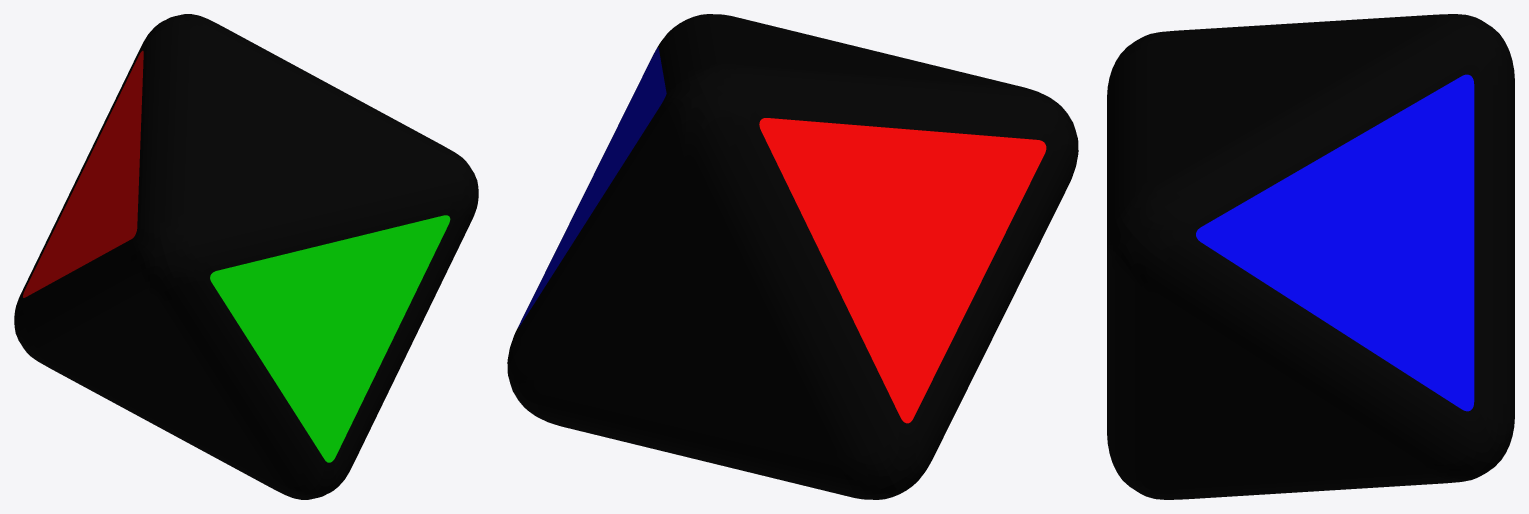
File: o_bgry.fbx
3 views of the same model, side by side, from view 1: azimuth 30°, elevation 25°; view 2: azimuth 150°, elevation 25°; view 3: azimuth 270°, elevation 25° (orthographic). The views are drawn at different scales.
Visible parts, largest first — view 1: o_bgry; view 2: o_bgry; view 3: o_bgry.
Part boxes in pixels (<box>): o_bgry: <box>14,14,478,499</box>; o_bgry: <box>507,14,1078,499</box>; o_bgry: <box>1107,14,1514,499</box>.
Bounding box in the file's own units: 154 × 171 × 133.
